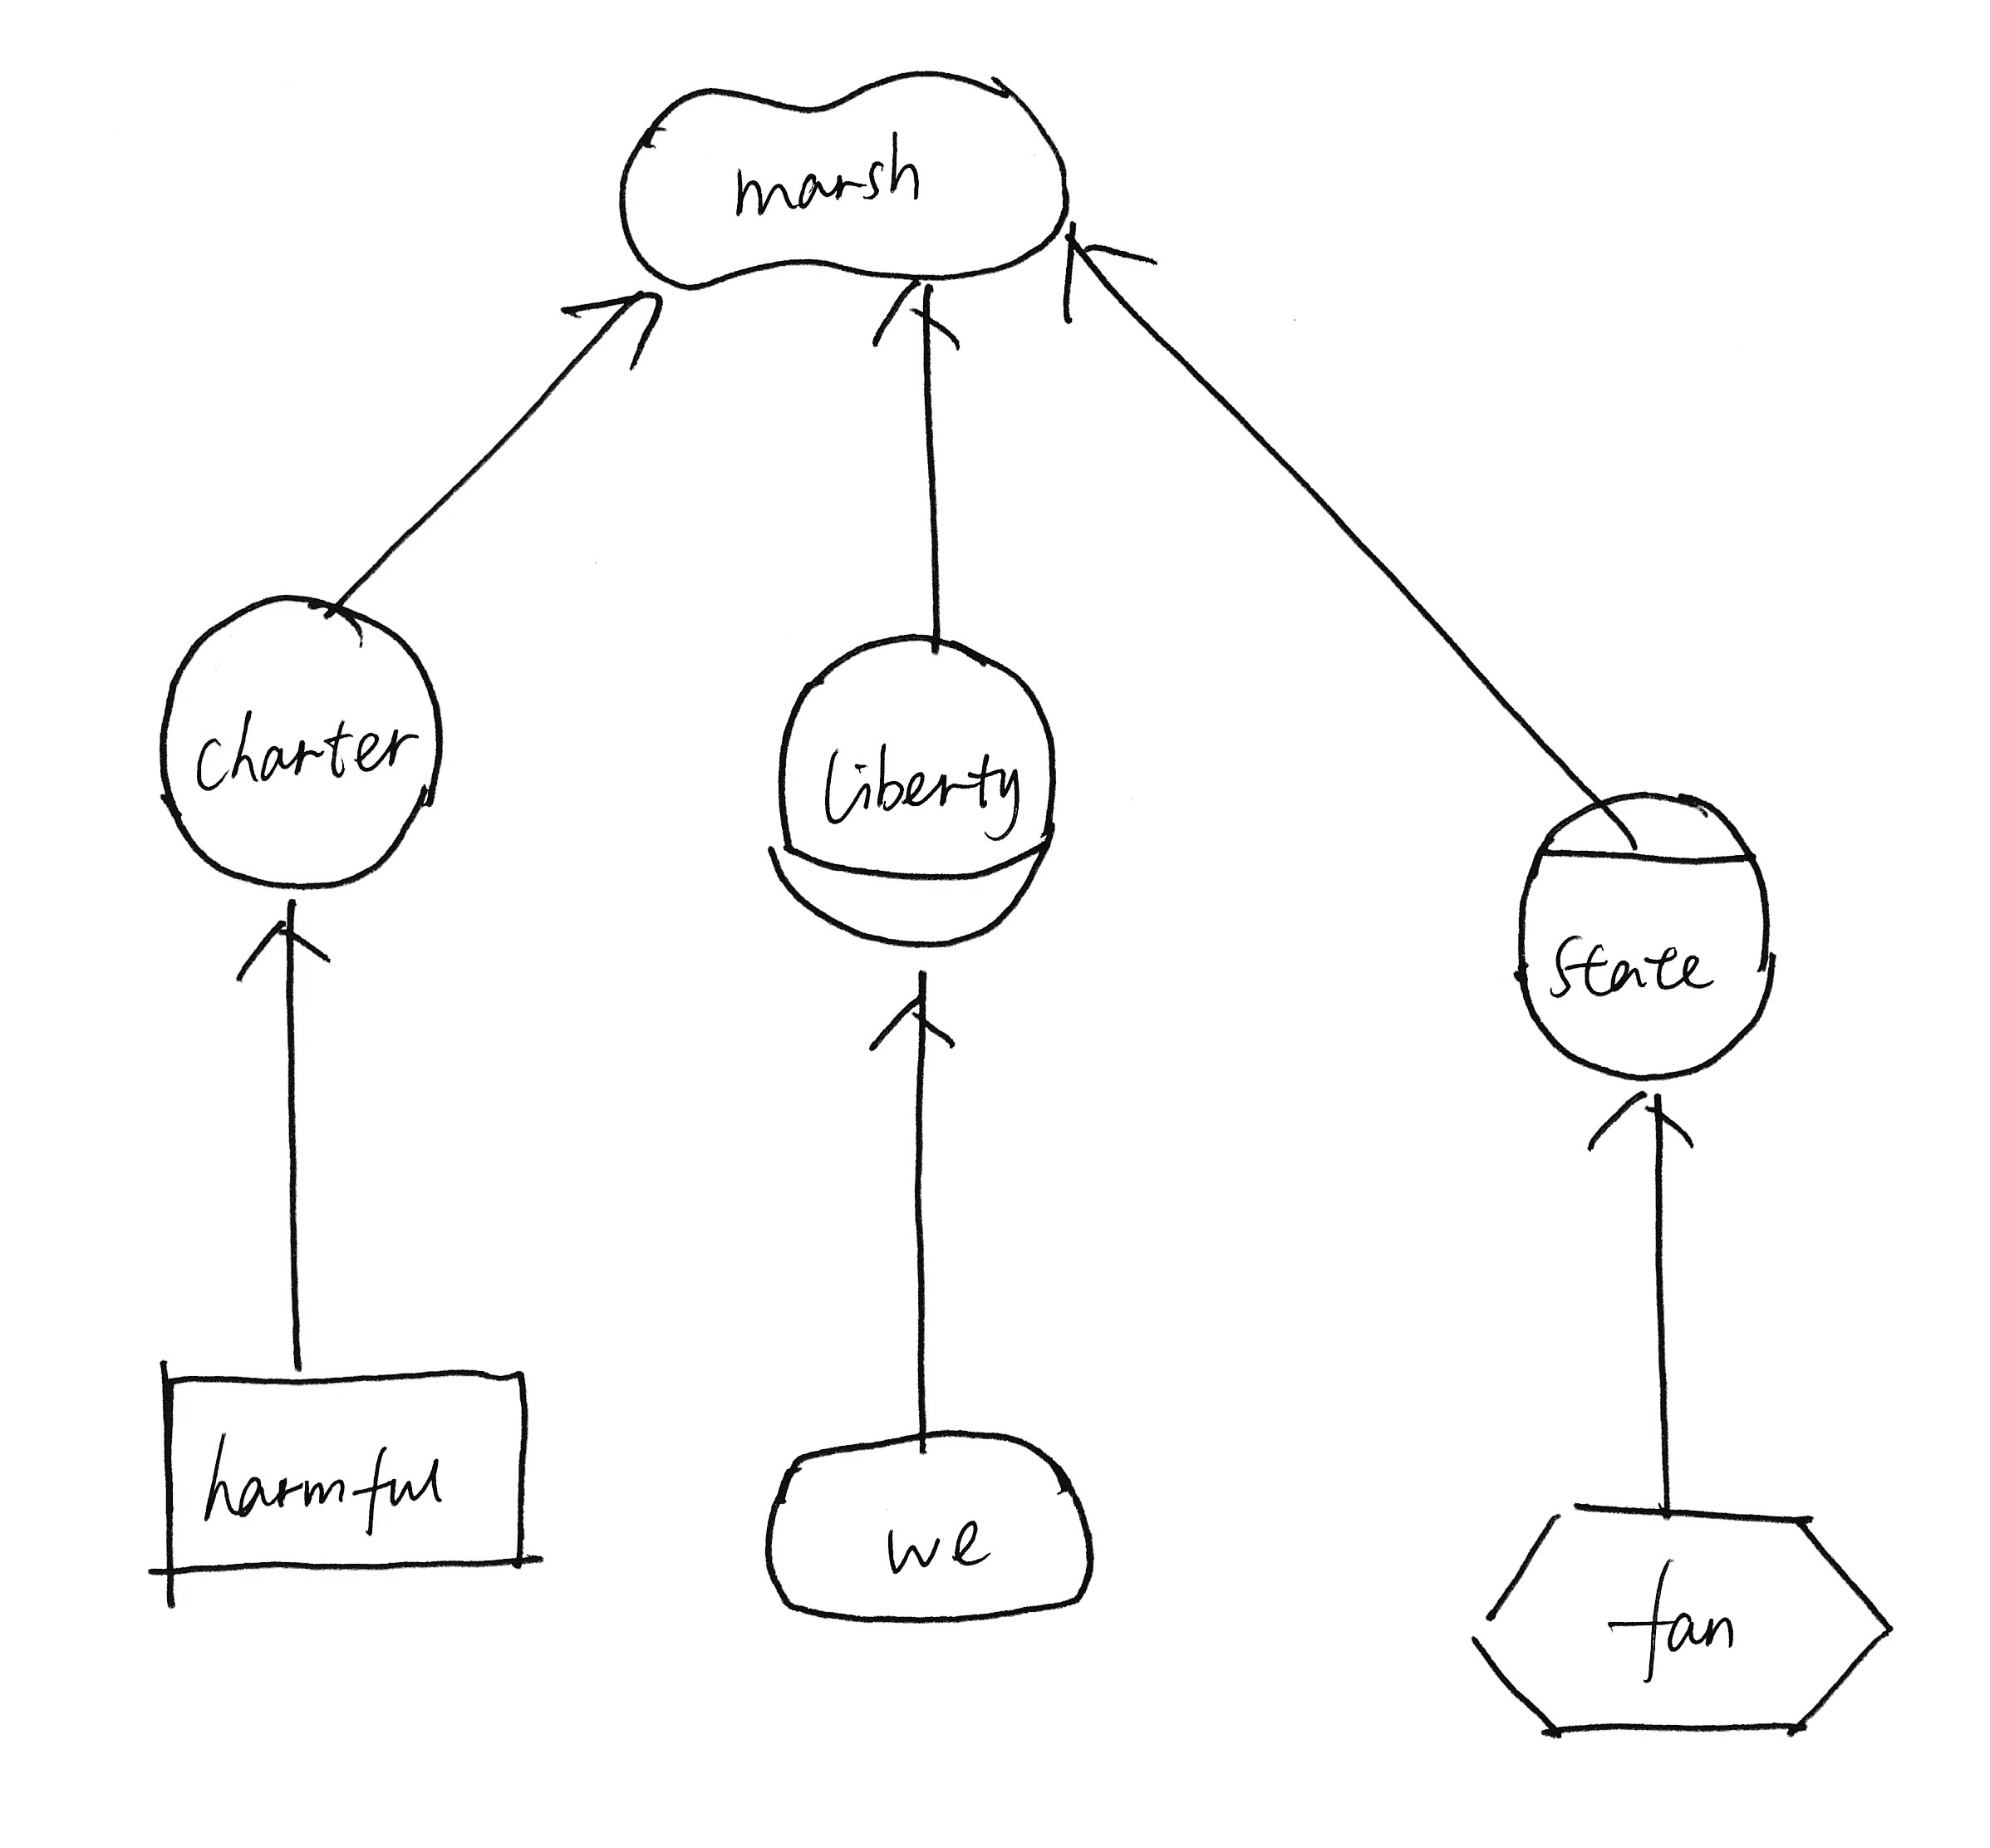actor: (139, 577, 458, 908)
agent: (1499, 775, 1792, 1096)
arrow: (1049, 210, 1167, 337), (854, 957, 969, 1072), (554, 278, 672, 386), (1584, 1080, 1709, 1174), (227, 898, 346, 993), (868, 271, 971, 373)
goal: (743, 1414, 1110, 1638)
quality: (596, 54, 1084, 307)
resource: (132, 1329, 559, 1617)
role: (747, 613, 1085, 967)
task: (1457, 1480, 1908, 1758)
